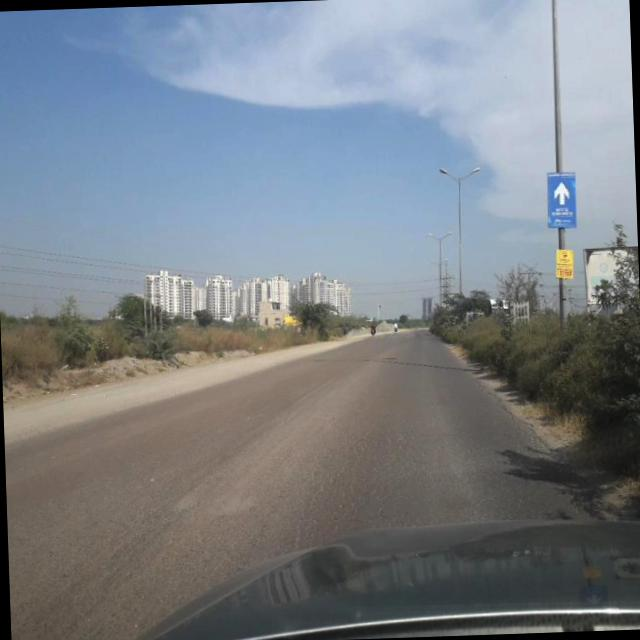crack: (152, 397, 520, 562), (469, 370, 607, 510)
